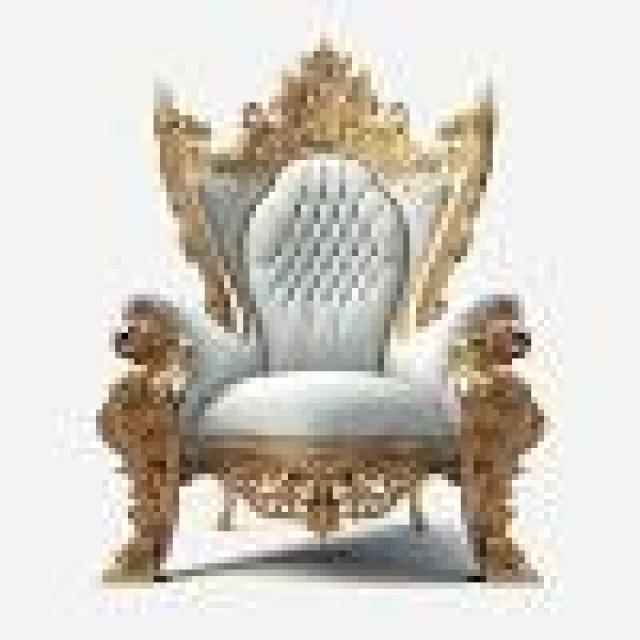chair: (75, 13, 590, 640)
